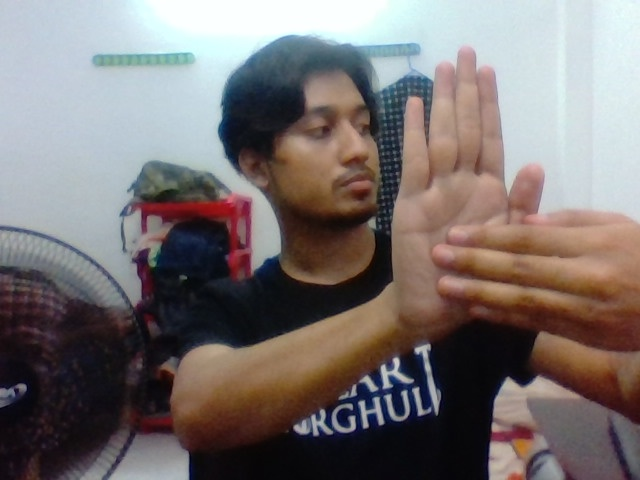H: (373, 37, 624, 343)
